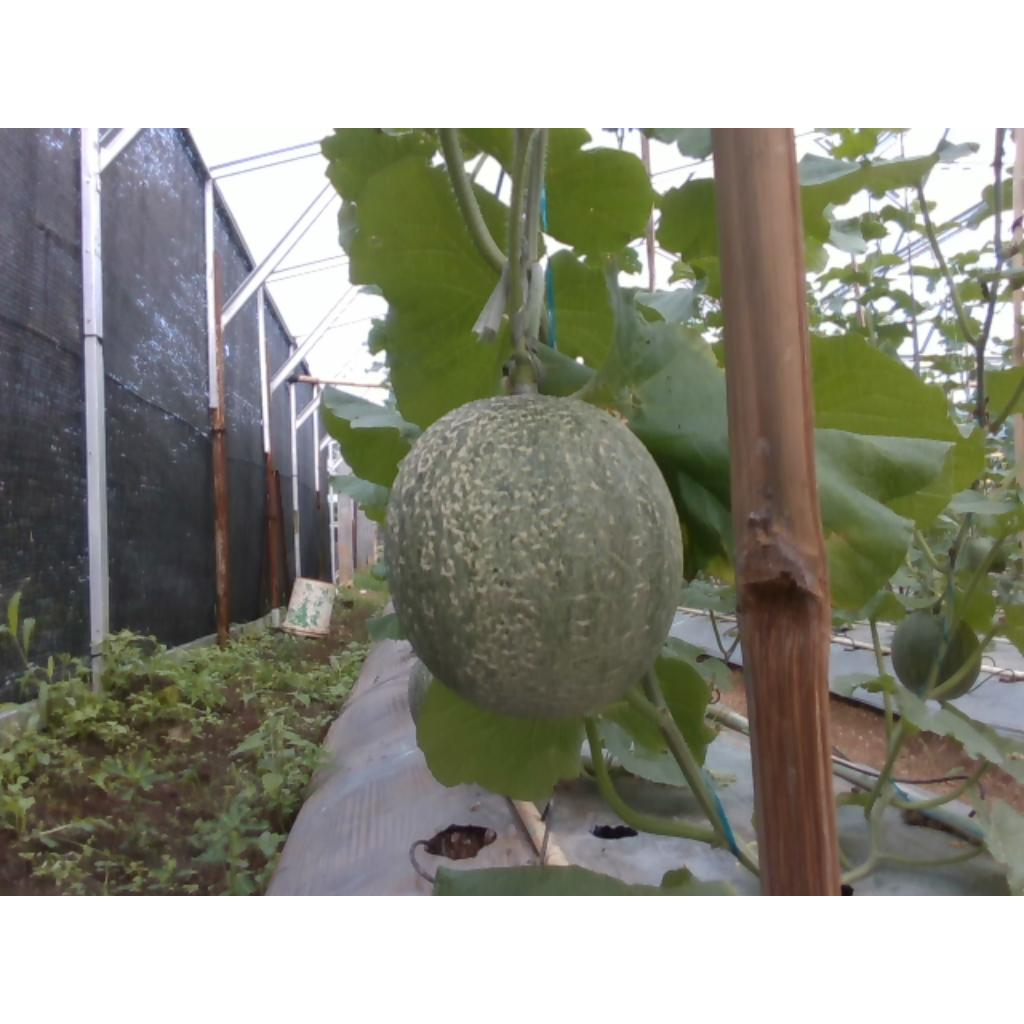melon: (387, 394, 682, 719)
